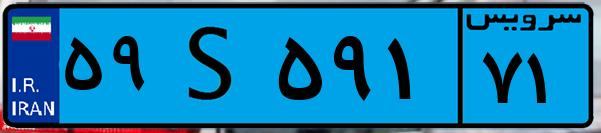1: (385, 28, 445, 110), (525, 38, 570, 115)
5: (270, 28, 330, 110), (57, 26, 110, 100)
7: (475, 38, 525, 113)
9: (330, 28, 385, 110), (110, 28, 158, 98)
S: (158, 12, 270, 120)
